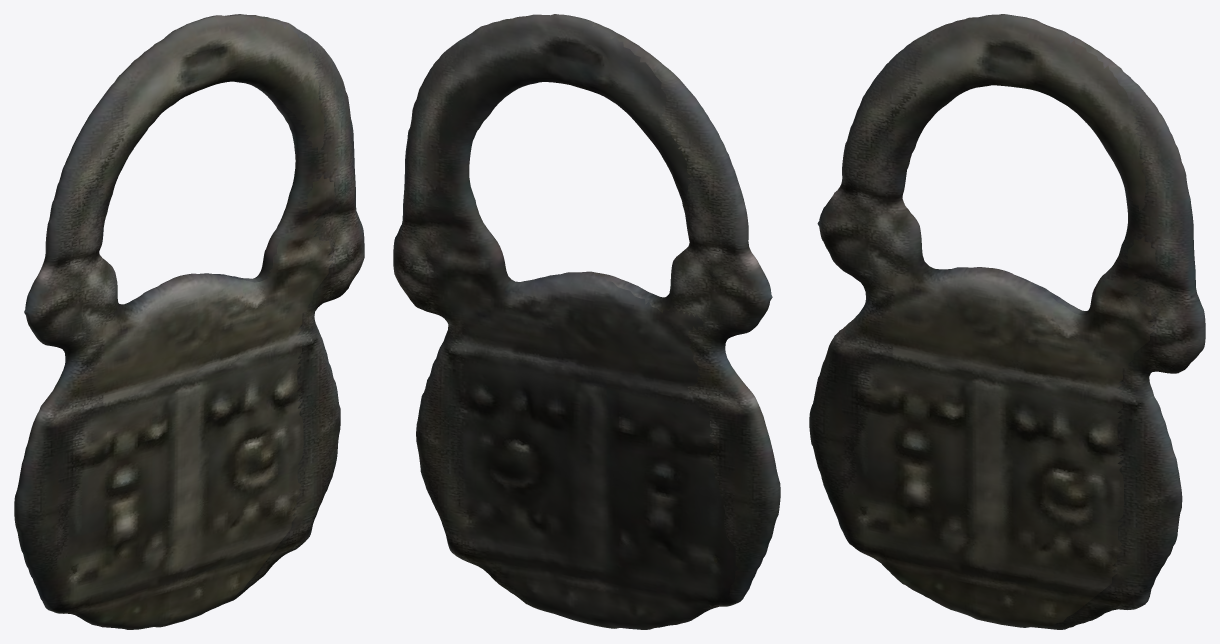
Rendered from kfl-2259.glb.
The picture shows the model from 3 angles, left to right: view 1: azimuth 30°, elevation 25°; view 2: azimuth 150°, elevation 25°; view 3: azimuth 330°, elevation 25°; orthographic projection. The views are drawn at different scales.
Visible parts, largest first — view 1: geometry_0; view 2: geometry_0; view 3: geometry_0.
Part boxes in pixels (x1=…): geometry_0: x1=14, y1=14, x2=364, y2=629; geometry_0: x1=393, y1=14, x2=780, y2=629; geometry_0: x1=809, y1=14, x2=1205, y2=629.
Size of the model in its own units: 0.635 by 0.9919 by 0.0912.
Materials: 1 (1 with a texture image).
